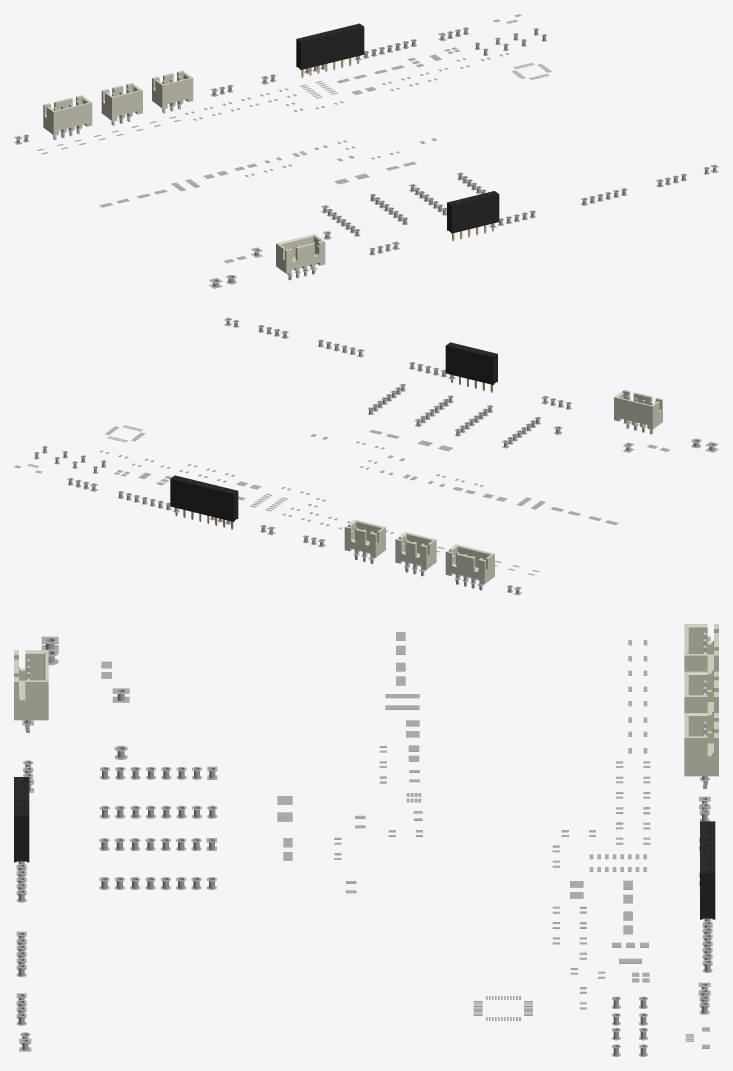
Rendered from jst_only.glb.
The picture shows the model from 3 angles, top to bottom: view 1: azimuth 30°, elevation 25°; view 2: azimuth 150°, elevation 25°; view 3: azimuth 270°, elevation 25°; orthographic projection. The views are drawn at different scales.
Parts seen in each view (by area): view 1: =>[0:1:1:10], =>[0:1:1:3] (×2), =>[0:1:1:9] (×2), =>[0:1:1:7], =>[0:1:1:5]; view 2: =>[0:1:1:10], =>[0:1:1:3] (×2), =>[0:1:1:9] (×2), =>[0:1:1:7], =>[0:1:1:5]; view 3: =>[0:1:1:10], =>[0:1:1:3] (×2), =>[0:1:1:9] (×2), =>[0:1:1:7], =>[0:1:1:5].
Part boxes in pixels (x1=…): =>[0:1:1:10]: x1=14, y1=14, x2=718, y2=288; =>[0:1:1:3] (×2): x1=43, y1=95, x2=325, y2=280; =>[0:1:1:9] (×2): x1=101, y1=70, x2=193, y2=125; =>[0:1:1:7]: x1=296, y1=23, x2=364, y2=77; =>[0:1:1:5]: x1=447, y1=191, x2=499, y2=241; =>[0:1:1:10]: x1=14, y1=317, x2=718, y2=595; =>[0:1:1:3] (×2): x1=445, y1=389, x2=662, y2=590; =>[0:1:1:9] (×2): x1=344, y1=519, x2=436, y2=576; =>[0:1:1:7]: x1=170, y1=475, x2=238, y2=529; =>[0:1:1:5]: x1=445, y1=342, x2=497, y2=392; =>[0:1:1:10]: x1=16, y1=632, x2=712, y2=1056; =>[0:1:1:3] (×2): x1=14, y1=624, x2=718, y2=732; =>[0:1:1:9] (×2): x1=684, y1=671, x2=718, y2=788; =>[0:1:1:7]: x1=700, y1=821, x2=715, y2=919; =>[0:1:1:5]: x1=14, y1=777, x2=29, y2=862.
Bounding box in the file's own units: 0.1633 × 0.0119 × 0.1167.
